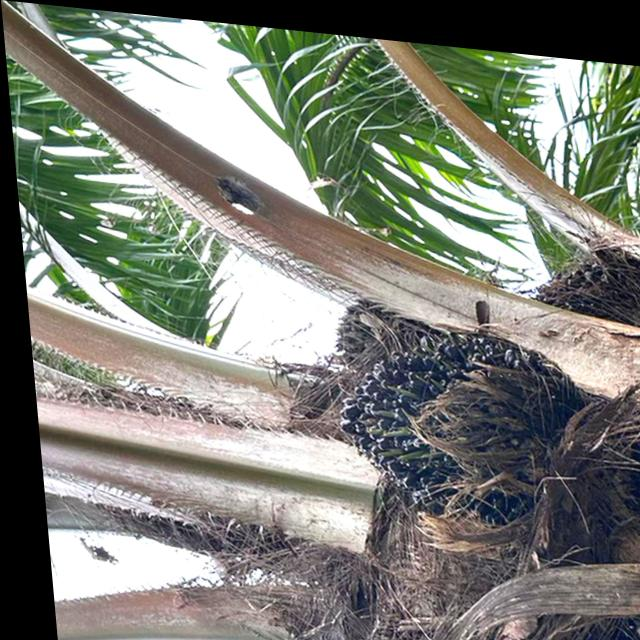unripe: (310, 303, 590, 528), (516, 219, 640, 324)
